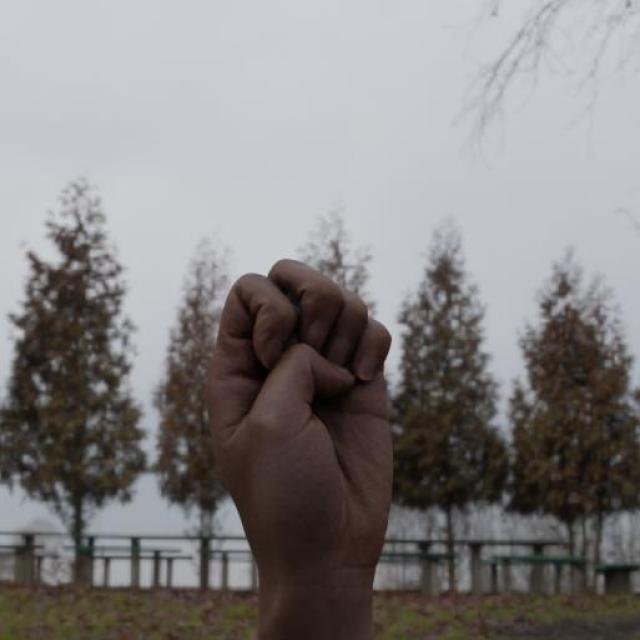E: (204, 254, 397, 576)
